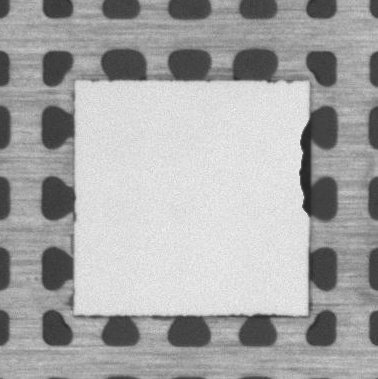DIE_BROKEN: (296, 124, 313, 219)
